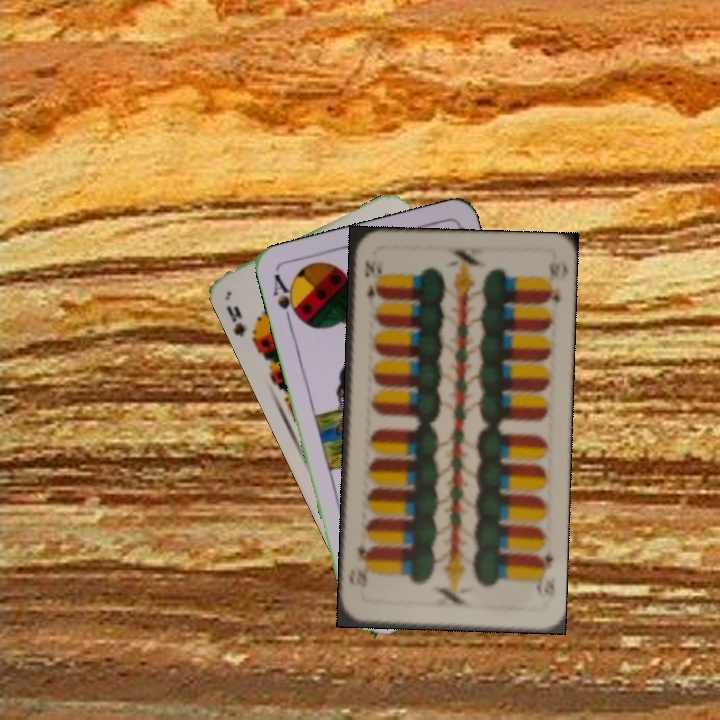E10: (532, 548, 558, 601), (360, 256, 382, 311)
S9: (222, 301, 265, 348)
SA: (269, 270, 304, 328)
